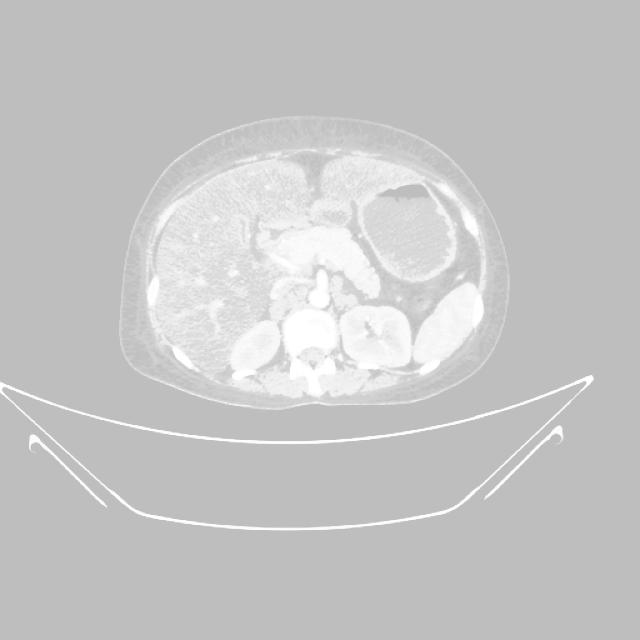NORMAL: (102, 125, 529, 410)
